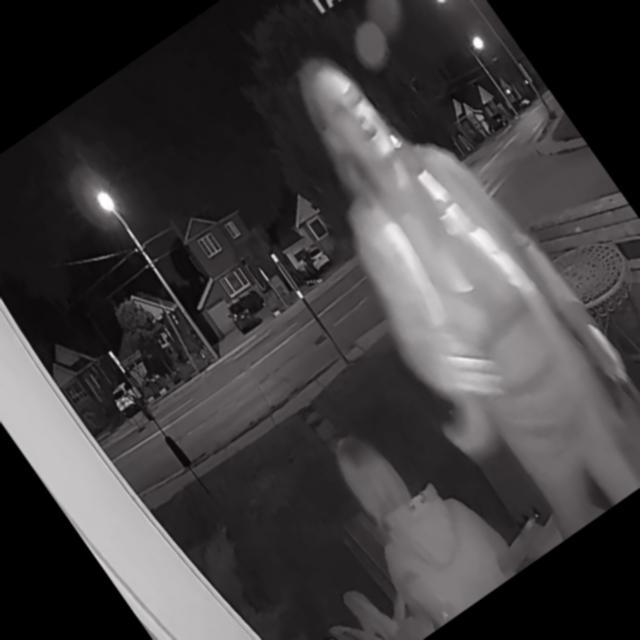person: (241, 11, 640, 549), (304, 394, 526, 638)
